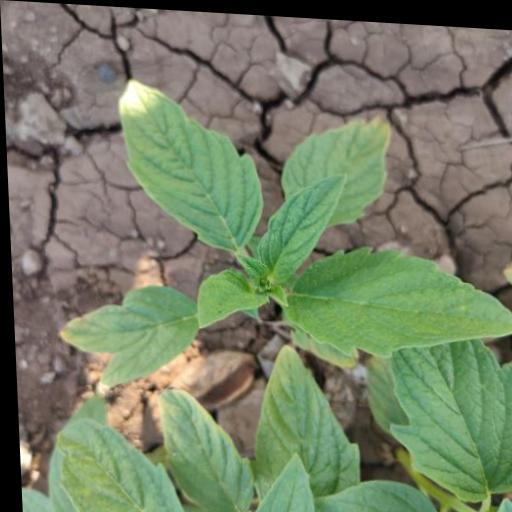crop: (2, 51, 512, 418)
